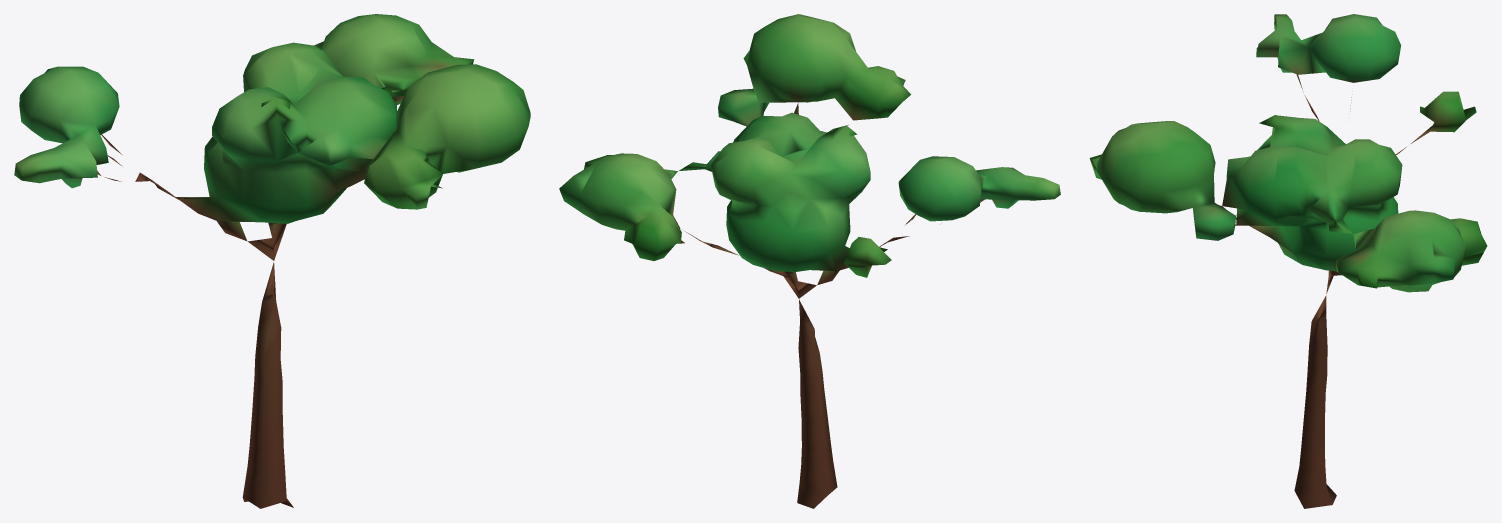
The model's file is acacia-tree-110-lod2.obj.
3 renders of one model, left to right at view 1: azimuth 30°, elevation 25°; view 2: azimuth 150°, elevation 25°; view 3: azimuth 270°, elevation 25°, orthographic. The views are drawn at different scales.
Parts seen in each view (by area): view 1: simplified; view 2: simplified; view 3: simplified.
Boxes of the visible parts, box(x1,y1,x2,y2) form: simplified: box(14, 14, 530, 508); simplified: box(559, 14, 1060, 508); simplified: box(1089, 14, 1487, 508).
Bounding box in the file's own units: 480 × 429 × 370.
